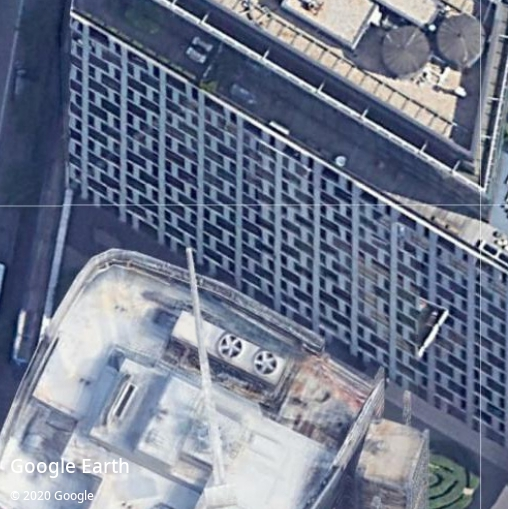Vent: (219, 334, 243, 359), (255, 351, 278, 375)
